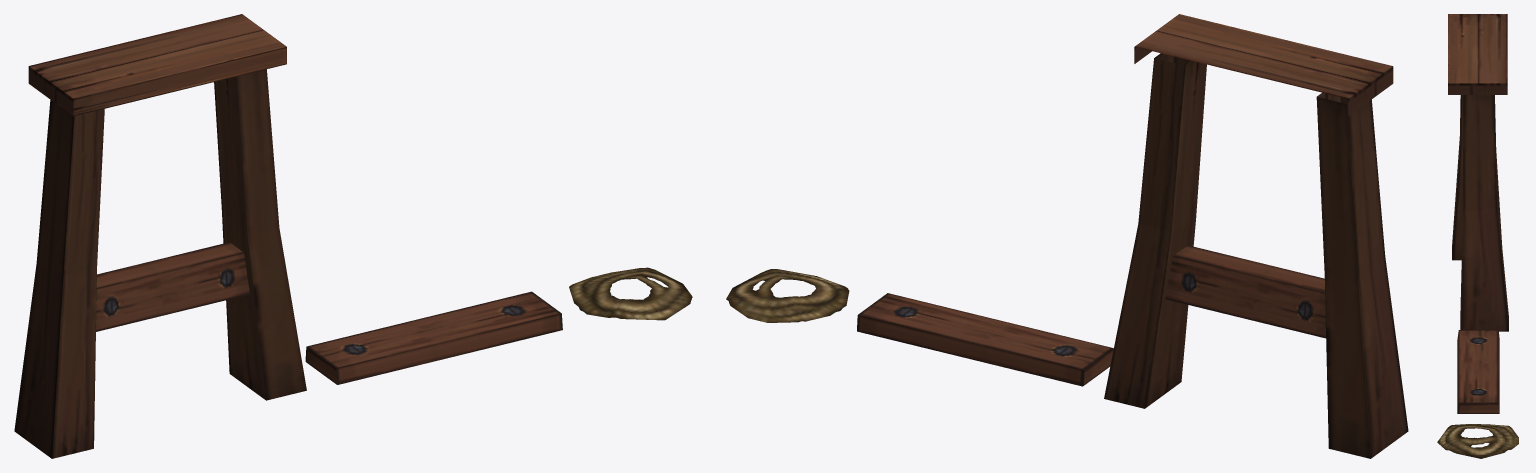
File: 2_YiZhan_JiaoShouJia_02.FBX
3 renders of one model, left to right at view 1: azimuth 30°, elevation 25°; view 2: azimuth 150°, elevation 25°; view 3: azimuth 270°, elevation 25°, orthographic. The views are drawn at different scales.
Parts seen in each view (by area): view 1: 2_YiZhan_JiaoShouJia_02_01, 2_YiZhan_JiaoShouJia_02_02, 2_YiZhan_JiaoShouJia_02_03; view 2: 2_YiZhan_JiaoShouJia_02_01, 2_YiZhan_JiaoShouJia_02_02, 2_YiZhan_JiaoShouJia_02_03; view 3: 2_YiZhan_JiaoShouJia_02_01, 2_YiZhan_JiaoShouJia_02_02, 2_YiZhan_JiaoShouJia_02_03.
Boxes of the visible parts, x1,y1,x2,y2 form: 2_YiZhan_JiaoShouJia_02_01: (14,14,306,458); 2_YiZhan_JiaoShouJia_02_02: (305,291,562,384); 2_YiZhan_JiaoShouJia_02_03: (569,267,692,320); 2_YiZhan_JiaoShouJia_02_01: (1104,14,1408,458); 2_YiZhan_JiaoShouJia_02_02: (857,293,1113,386); 2_YiZhan_JiaoShouJia_02_03: (726,269,849,322); 2_YiZhan_JiaoShouJia_02_01: (1448,14,1508,331); 2_YiZhan_JiaoShouJia_02_02: (1457,330,1499,413); 2_YiZhan_JiaoShouJia_02_03: (1437,424,1518,458).
Bounding box in the file's own units: 749 × 392 × 126.
